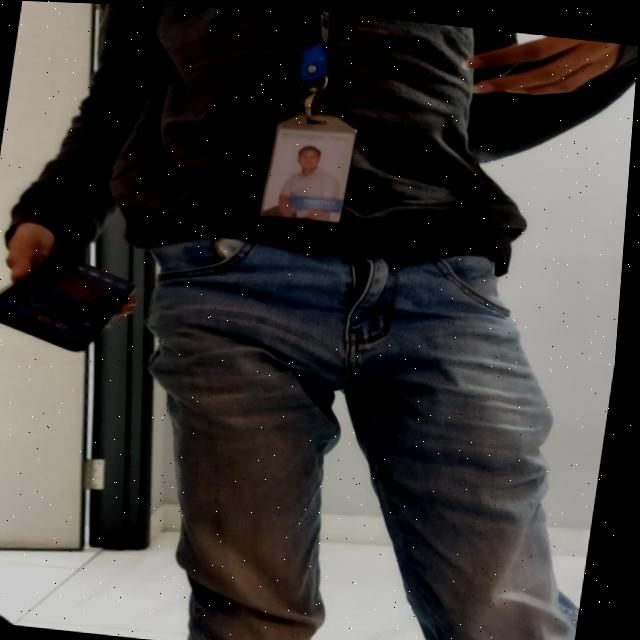id_card: (248, 11, 386, 230)
